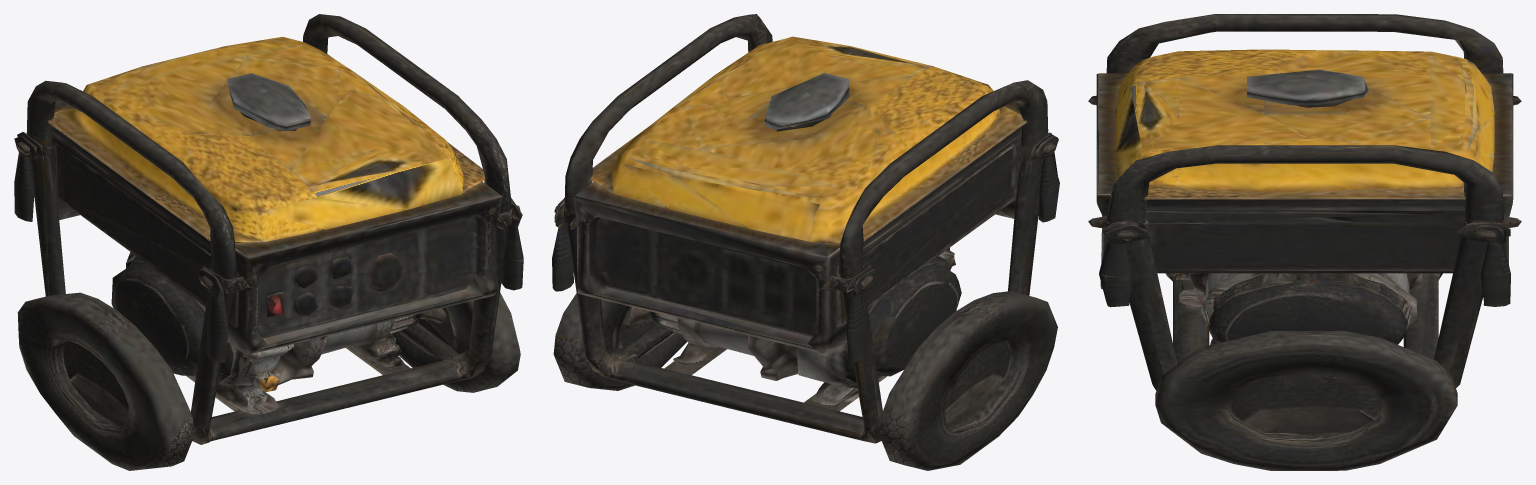
File: p7-portable-generator-t25.glb
3 renders of one model, left to right at view 1: azimuth 30°, elevation 25°; view 2: azimuth 150°, elevation 25°; view 3: azimuth 270°, elevation 25°, orthographic. The views are drawn at different scales.
Parts seen in each view (by area): view 1: p7-portable-generator-t25; view 2: p7-portable-generator-t25; view 3: p7-portable-generator-t25.
Boxes of the visible parts, x1,y1,x2,y2 form: p7-portable-generator-t25: [14, 14, 523, 470]; p7-portable-generator-t25: [552, 14, 1059, 470]; p7-portable-generator-t25: [1088, 14, 1521, 470].
Bounding box in the file's own units: 0.65 × 0.55 × 0.691.
Materials: 1 (1 with a texture image).
